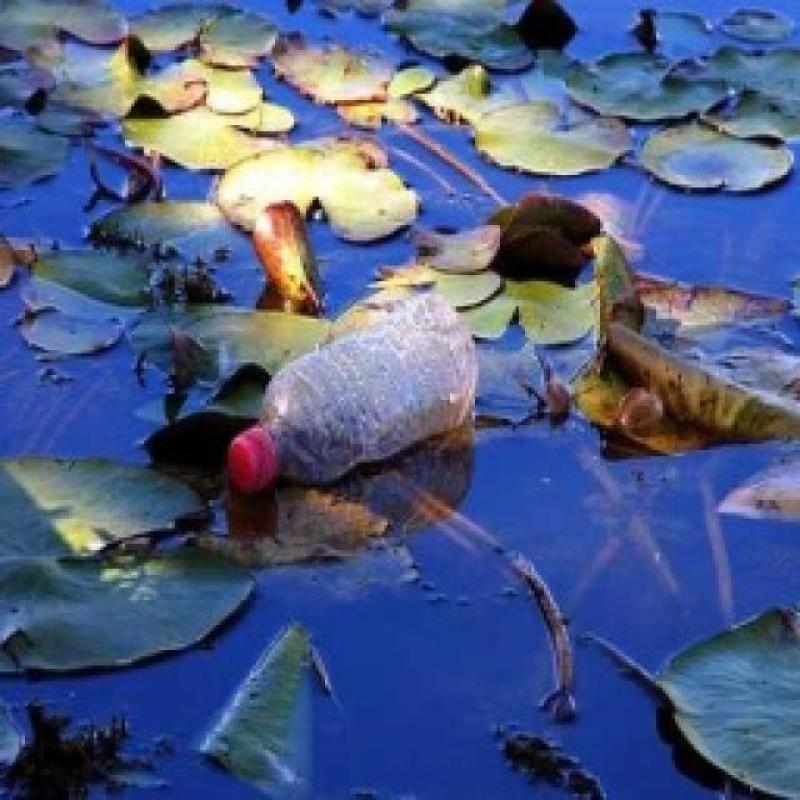botella: (227, 297, 483, 491)
